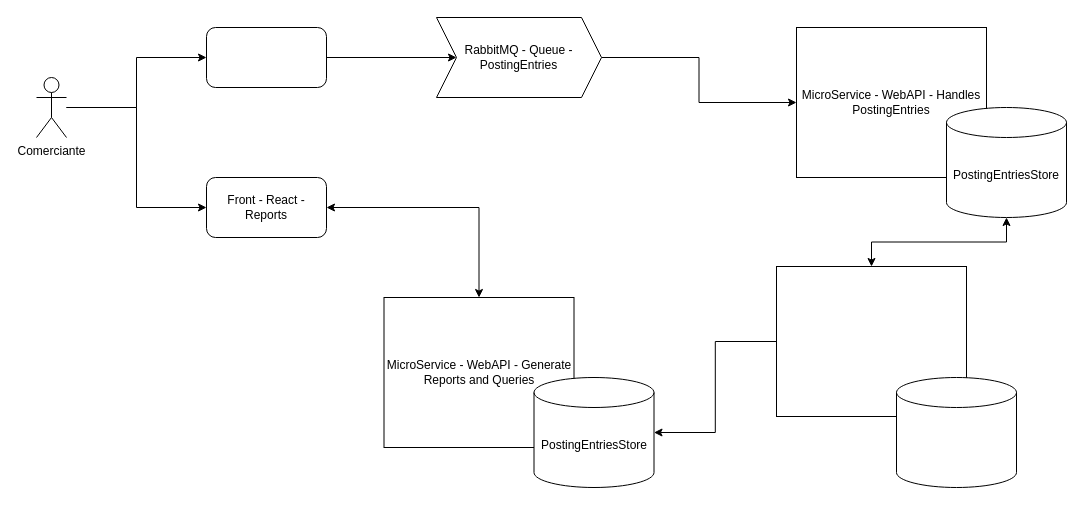
This 1084x505 diagram has some shape labels left out. Here are the shapes that lost their labels. From the top down, the box of each, then its label:
(206, 26, 326, 88): Front - React - Inputs
(776, 266, 966, 416): MicroService - Service - DatabaseSynchronizer (Can be replaced by a Debezium)
(896, 376, 1016, 488): SyncLogStore
